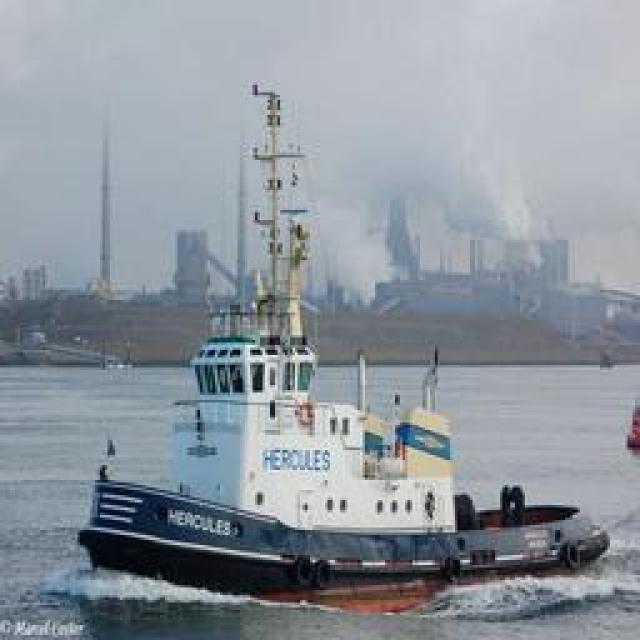CIV_Ship: (72, 132, 610, 592)
